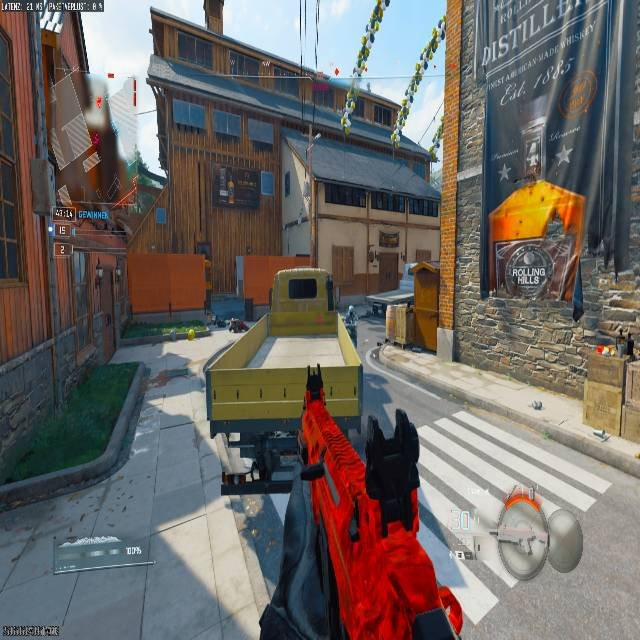player: (259, 372, 364, 636), (360, 403, 422, 534)
